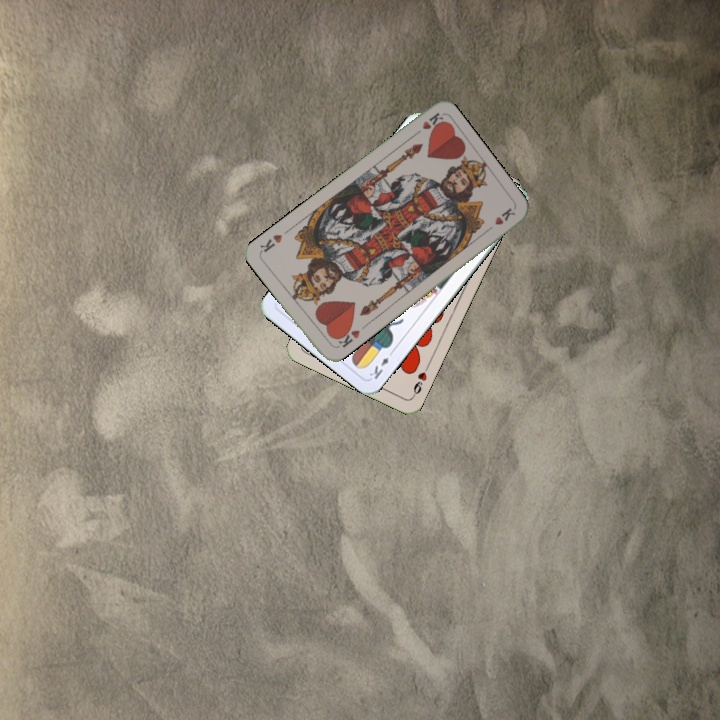EK: (365, 346, 396, 382)
H9: (408, 362, 431, 400)
HK: (408, 108, 446, 140), (330, 322, 362, 351)
